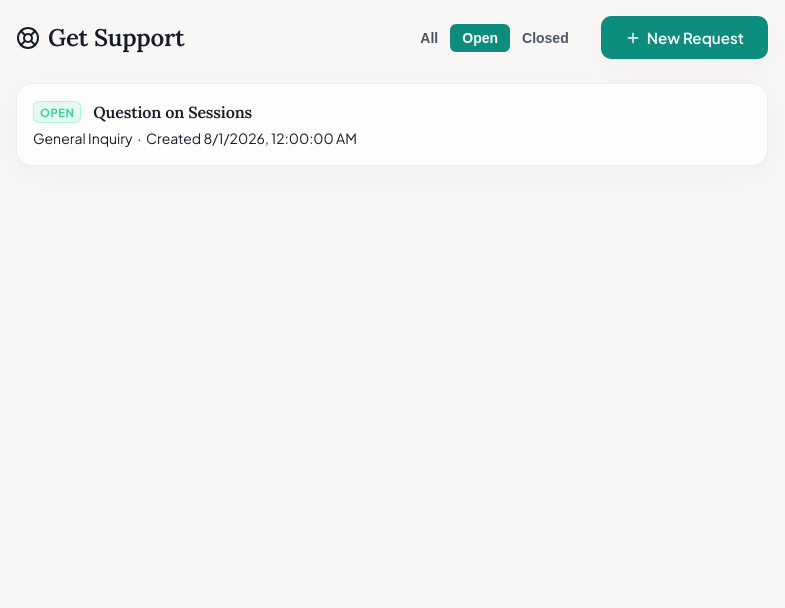
SupportFeedback component › switches to new request view when clicking New Request
Click the button "New Request": (684, 38) left=601, top=16, right=768, bottom=59
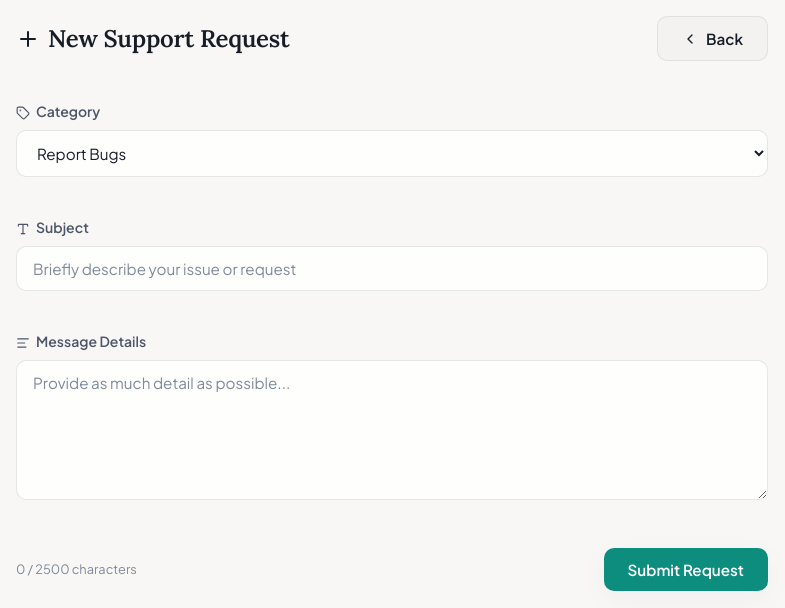
Check: the text "New Support Request" is shown, box left=16, top=20, right=290, bottom=56
